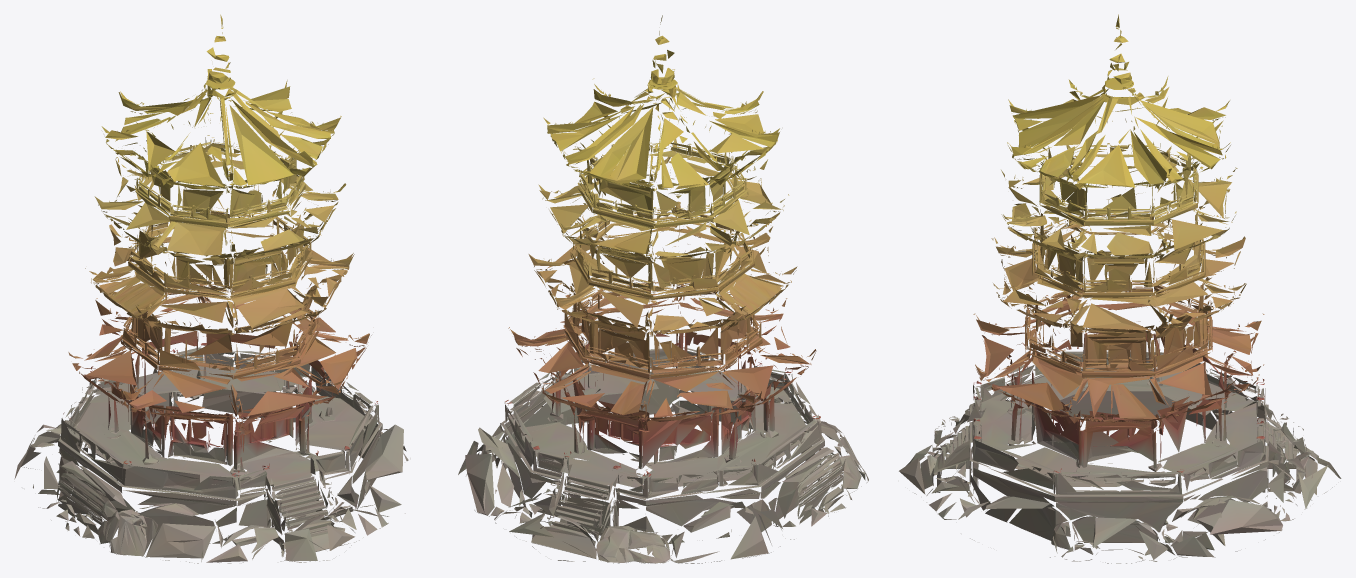
File: building_pagoda.glb
3 views of the same model, side by side, from view 1: azimuth 30°, elevation 25°; view 2: azimuth 150°, elevation 25°; view 3: azimuth 270°, elevation 25° (orthographic).
Visible parts, largest first — view 1: world; view 2: world; view 3: world.
Part boxes in pixels (bbox=[...]): world: bbox=[14, 14, 410, 563]; world: bbox=[458, 15, 868, 563]; world: bbox=[899, 14, 1341, 563].
Bounding box in the file's own units: 0.6965 × 0.9091 × 0.7848.
